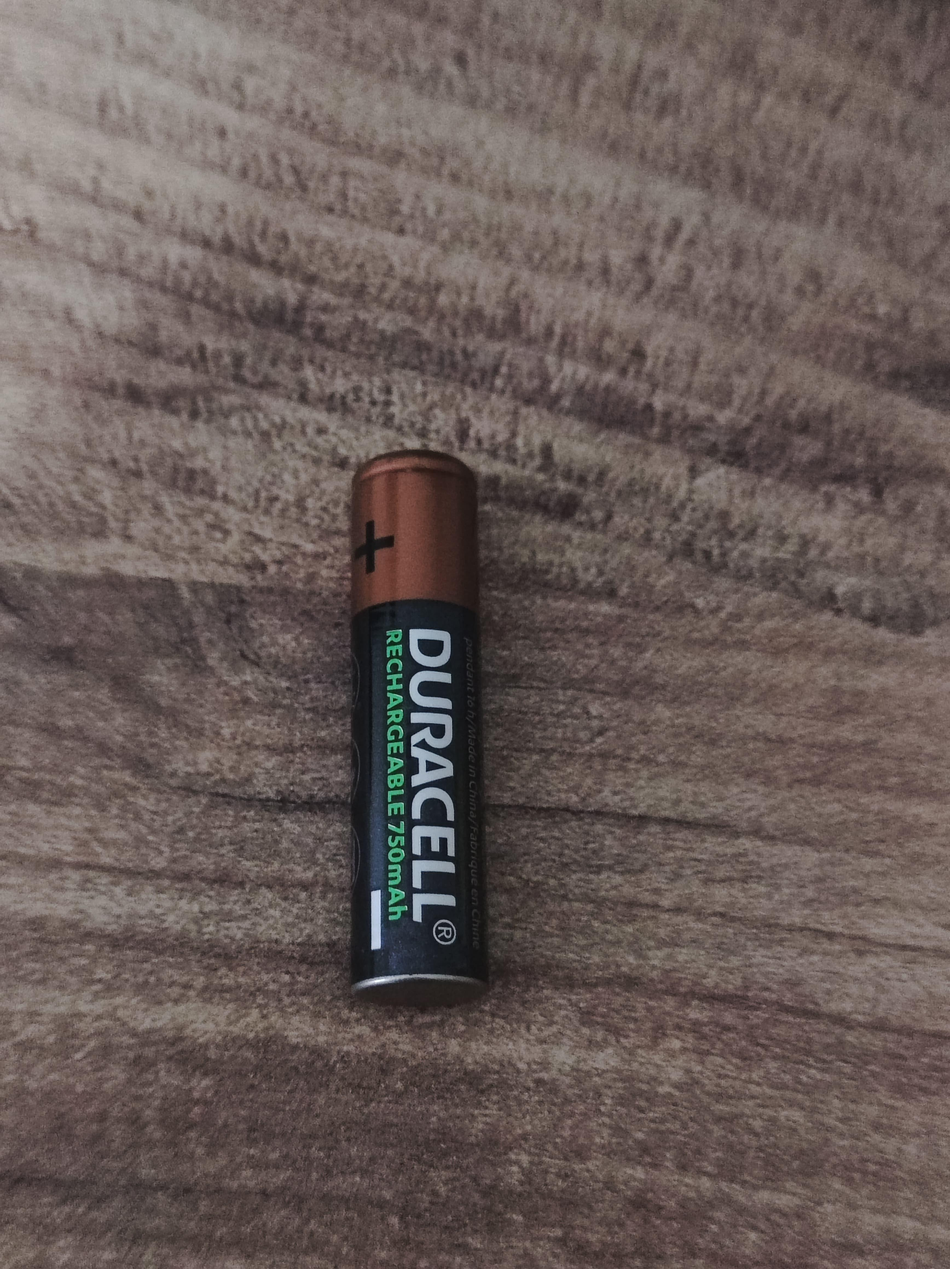AA: (346, 445, 494, 1015)
